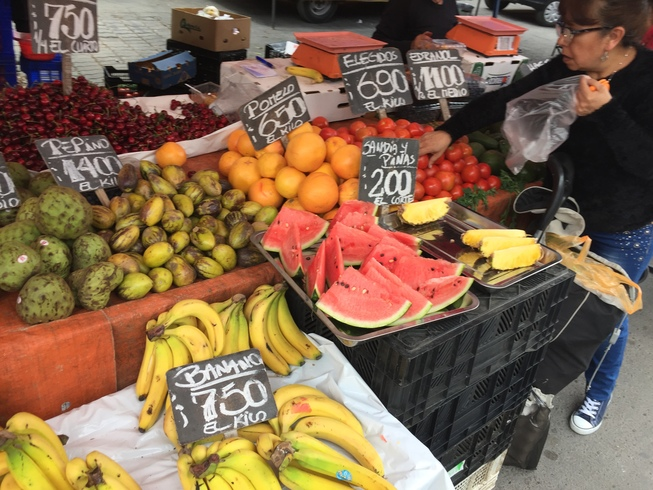precio: (156, 349, 290, 459), (233, 70, 325, 158), (28, 133, 138, 202), (334, 45, 416, 118), (356, 131, 429, 210), (406, 42, 480, 109), (27, 1, 101, 62)
